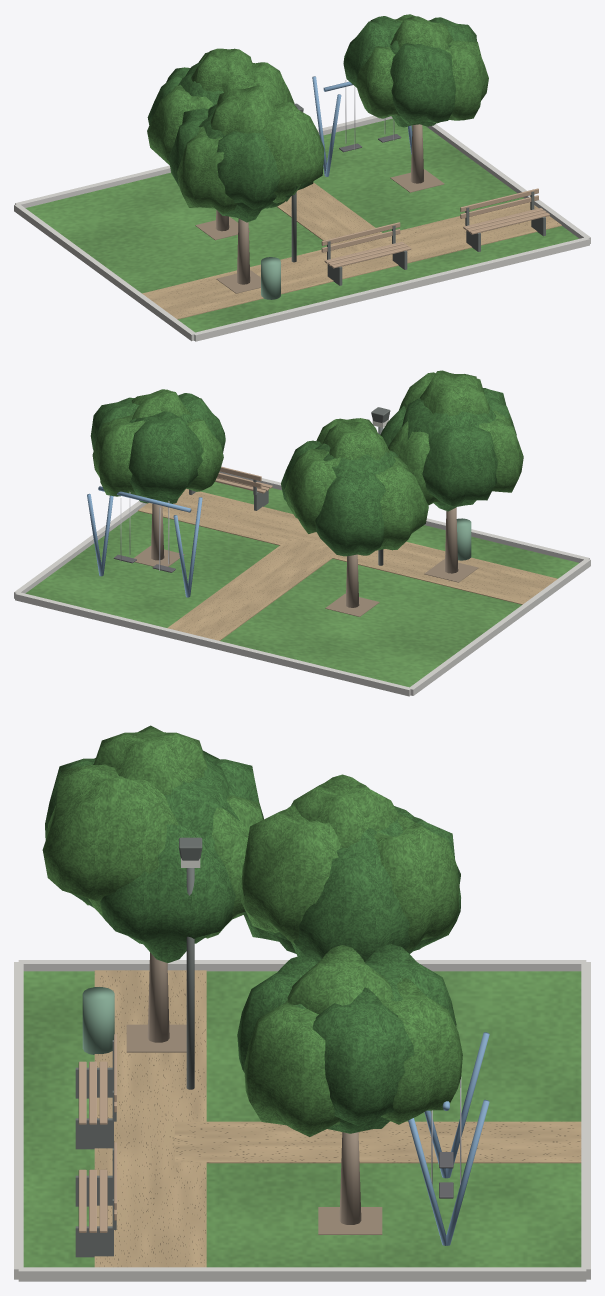
The model's file is barrio.plaza.fbx.
The picture shows the model from 3 angles, top to bottom: view 1: azimuth 30°, elevation 25°; view 2: azimuth 150°, elevation 25°; view 3: azimuth 270°, elevation 25°; orthographic projection. The views are drawn at different scales.
Visible parts, largest first — view 1: Plaza, Sendero, Copa.002, Copa.019, Solera.001, Copa.018, Sendero.001, Copa.017, Copa.003, Copa.023, Copa.009, Solera.003 (+21 smaller); view 2: Plaza, Sendero, Sendero.001, Copa.006, Copa.022, Copa.014, Solera, Copa.009, Copa.013, Copa.005, Copa.023, Solera.003 (+23 smaller); view 3: Plaza, Sendero, Sendero.001, Copa.019, Copa.020, Copa.011, Copa.004, Copa.003, Solera.002, Copa.012, Copa.013, Copa.005 (+24 smaller).
Boxes of the visible parts, x1,y1,x2,y2 form: Plaza: [25, 118, 579, 332]; Sendero: [142, 202, 561, 319]; Copa.002: [390, 43, 455, 124]; Copa.019: [254, 101, 324, 203]; Solera.001: [194, 237, 589, 341]; Copa.018: [217, 131, 280, 209]; Sendero.001: [277, 182, 391, 254]; Copa.017: [177, 126, 237, 213]; Copa.003: [433, 40, 488, 123]; Copa.023: [211, 85, 276, 134]; Copa.009: [147, 84, 213, 165]; Solera.003: [14, 204, 196, 341]; Plaza: [25, 482, 578, 687]; Sendero: [138, 488, 557, 604]; Sendero.001: [167, 538, 336, 640]; Copa.006: [129, 411, 203, 499]; Copa.022: [422, 426, 497, 506]; Copa.014: [315, 472, 385, 556]; Solera: [15, 592, 410, 696]; Copa.009: [374, 456, 428, 550]; Copa.013: [284, 449, 340, 533]; Copa.005: [92, 414, 148, 497]; Copa.023: [420, 370, 490, 416]; Solera.003: [408, 558, 590, 695]; Plaza: [23, 971, 581, 1267]; Sendero: [94, 970, 206, 1267]; Sendero.001: [174, 1121, 581, 1163]; Copa.019: [42, 764, 178, 917]; Copa.020: [100, 824, 235, 962]; Copa.011: [241, 804, 341, 944]; Copa.004: [312, 987, 414, 1125]; Copa.003: [244, 1000, 342, 1136]; Solera.002: [18, 1267, 586, 1281]; Copa.012: [291, 851, 409, 962]; Copa.013: [373, 814, 459, 950]; Copa.005: [380, 976, 462, 1124].
Size of the model in its own units: 9.22 by 4.39 by 7.22.
22 materials, 4 textured.
